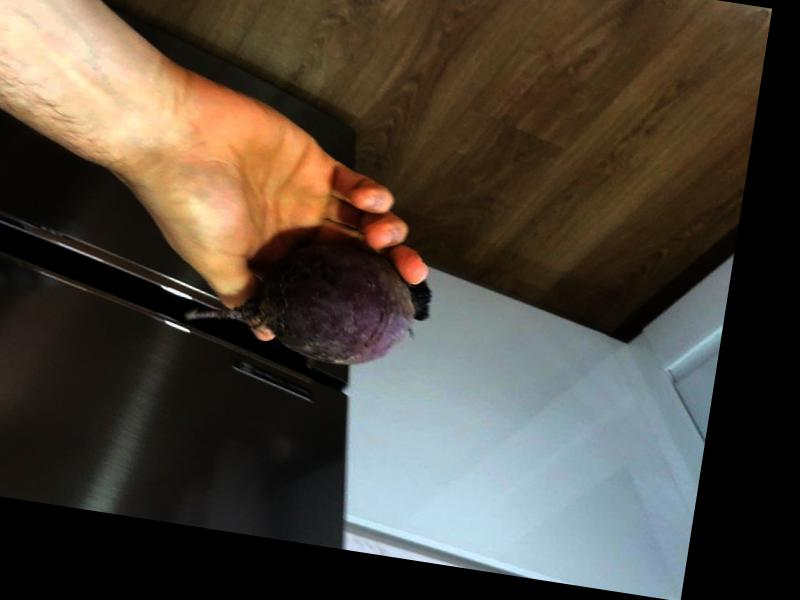Beet: (184, 226, 438, 375)
